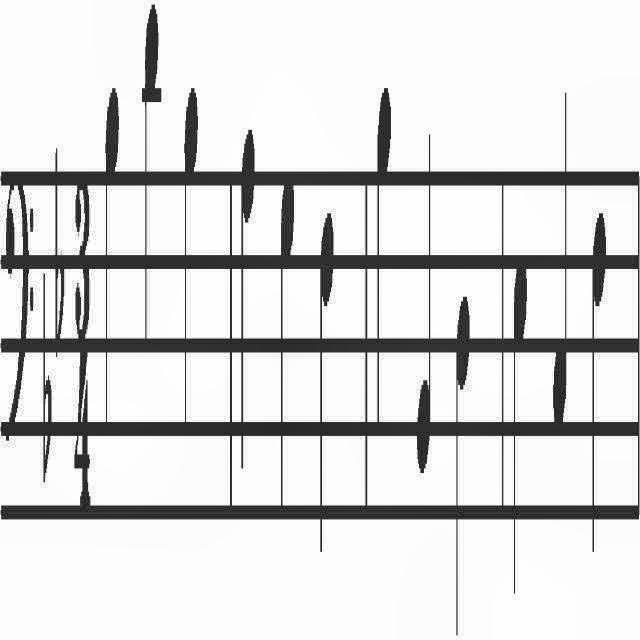Bemol: (38, 243, 54, 513), (50, 146, 66, 374)
Quarter-note: (586, 173, 610, 571), (136, 8, 160, 368), (101, 63, 123, 454), (550, 41, 570, 452), (317, 160, 337, 566), (177, 72, 199, 440), (510, 225, 530, 622), (236, 102, 256, 498), (374, 60, 394, 444), (278, 102, 294, 554), (452, 270, 472, 622), (415, 134, 435, 470)
